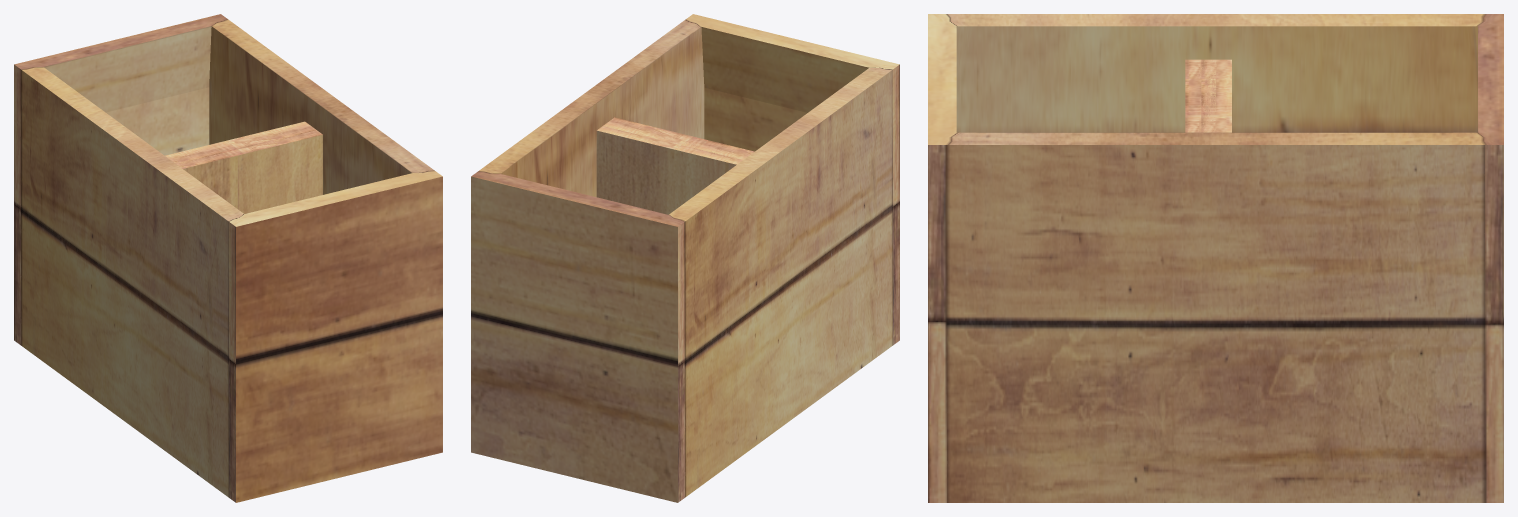
Rendered from Garden Bed 2.fbx.
3 views of the same model, side by side, from view 1: azimuth 30°, elevation 25°; view 2: azimuth 150°, elevation 25°; view 3: azimuth 270°, elevation 25° (orthographic). The views are drawn at different scales.
Parts seen in each view (by area): view 1: pasted__pCube5, pasted__pasted__pCube6, pasted__pCube6; view 2: pasted__pCube5, pasted__pCube6, pasted__pasted__pCube6; view 3: pasted__pCube5, pasted__pCube6, pasted__pasted__pCube6.
Part boxes in pixels (<box>): pasted__pCube5: <box>14,14,442,502</box>; pasted__pasted__pCube6: <box>176,130,322,213</box>; pasted__pCube6: <box>165,121,316,163</box>; pasted__pCube5: <box>471,14,899,502</box>; pasted__pCube6: <box>596,126,747,214</box>; pasted__pasted__pCube6: <box>603,117,754,160</box>; pasted__pCube5: <box>928,14,1503,502</box>; pasted__pCube6: <box>1201,59,1231,132</box>; pasted__pasted__pCube6: <box>1185,59,1215,132</box>.
Size of the model in its own units: 45.82 by 58.44 by 85.19.
